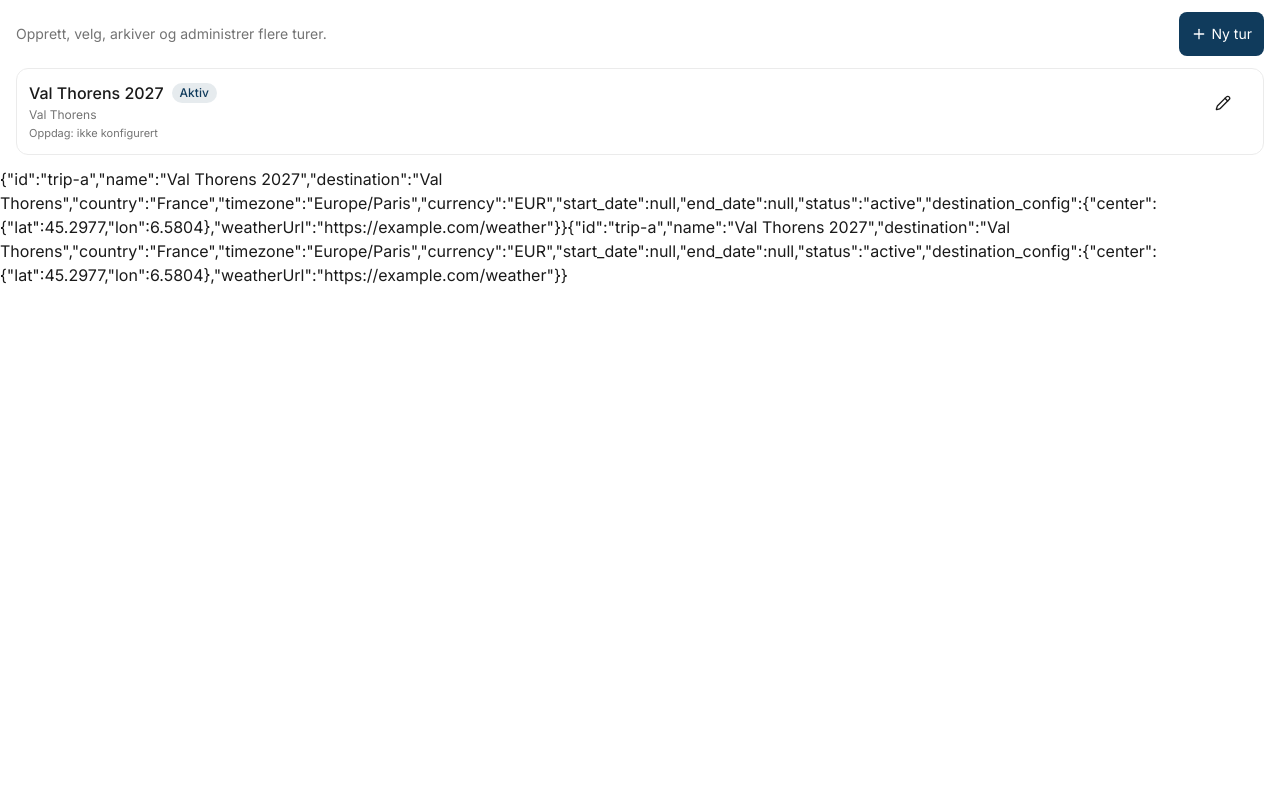
Scenario: faktisk turlagring gjennom AdminTrips og TripProvider › lagrer dato og info, oppdaterer begge appflater og leser verdiene etter ny åpning
The image size is (1280, 800).
Later steps or results of the test are not shown.
Click the button named "Rediger tur" at (1229, 103), box [1207,81,1251,125]
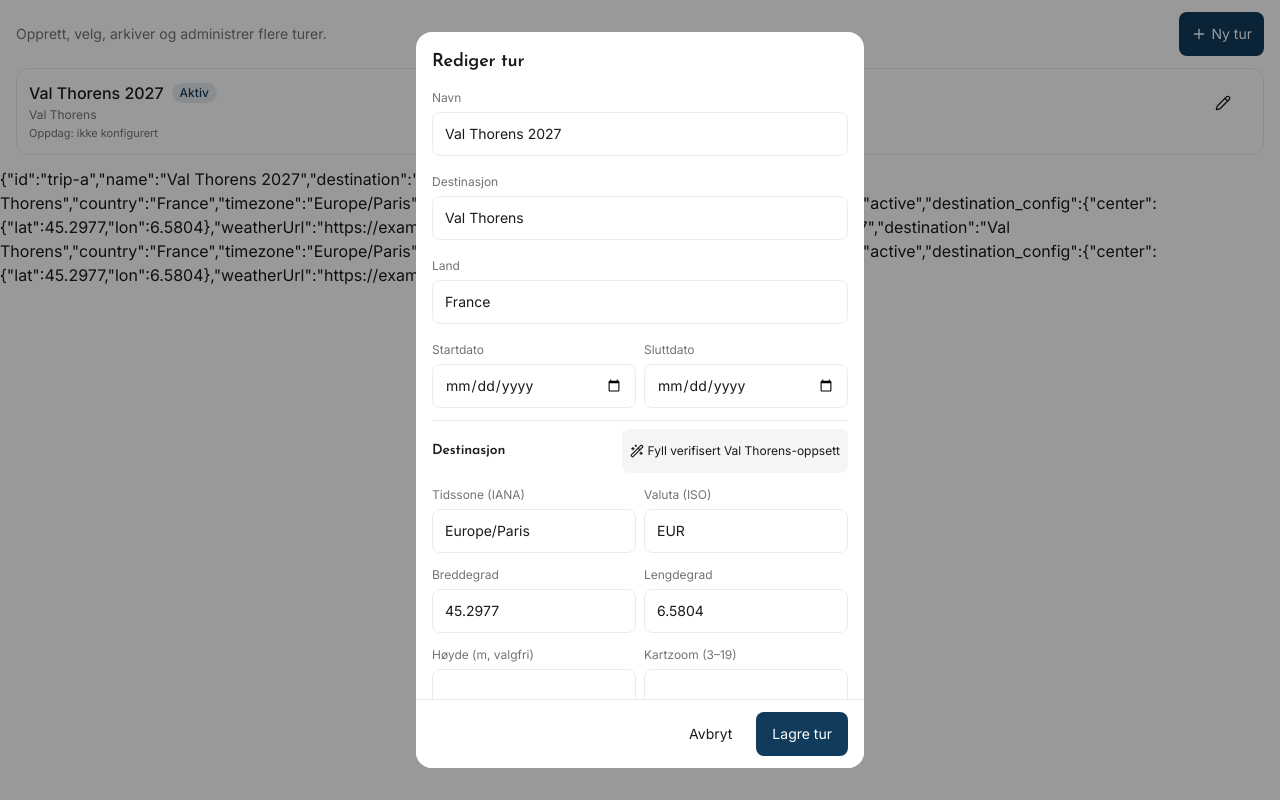
Type "2027-02-10" into the date field labelled "Startdato" at (534, 386), box [432,364,636,408]
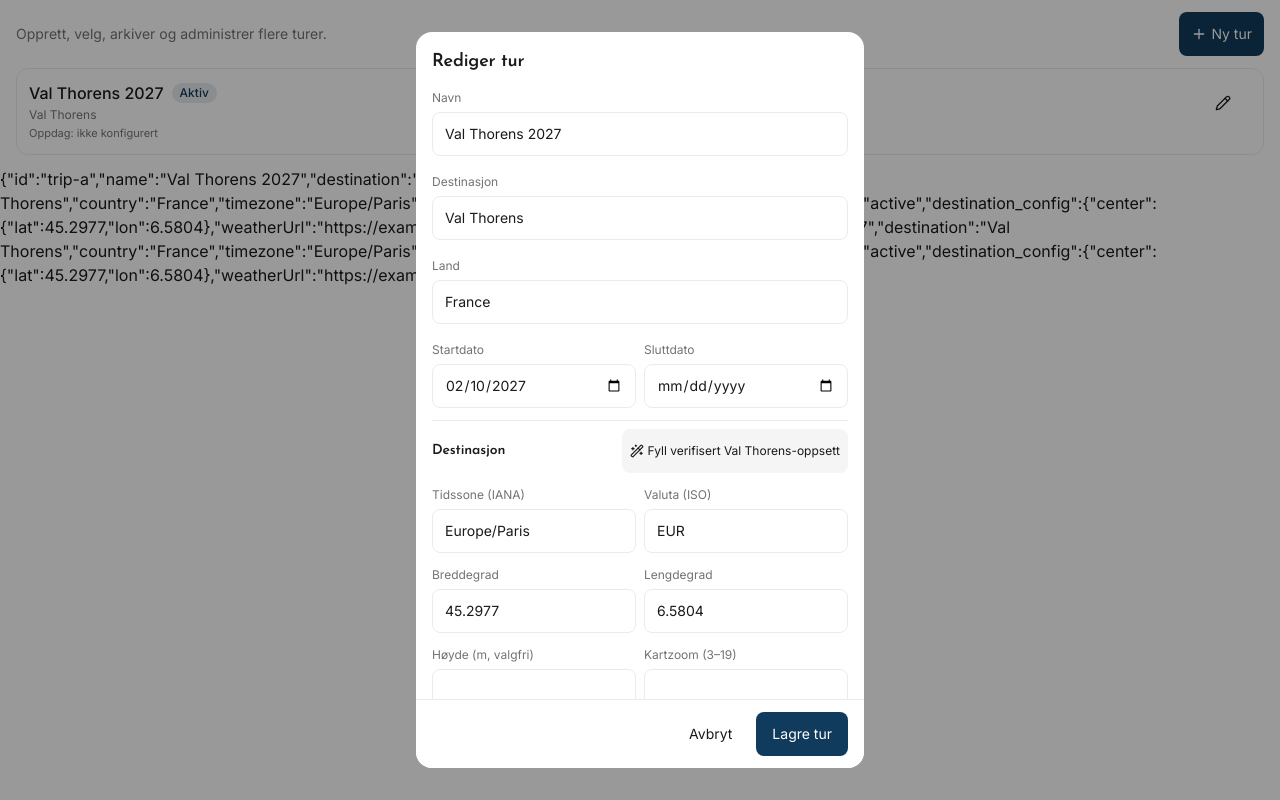
Type "2027-02-17" into the date field labelled "Sluttdato" at (746, 386), box [644,364,848,408]
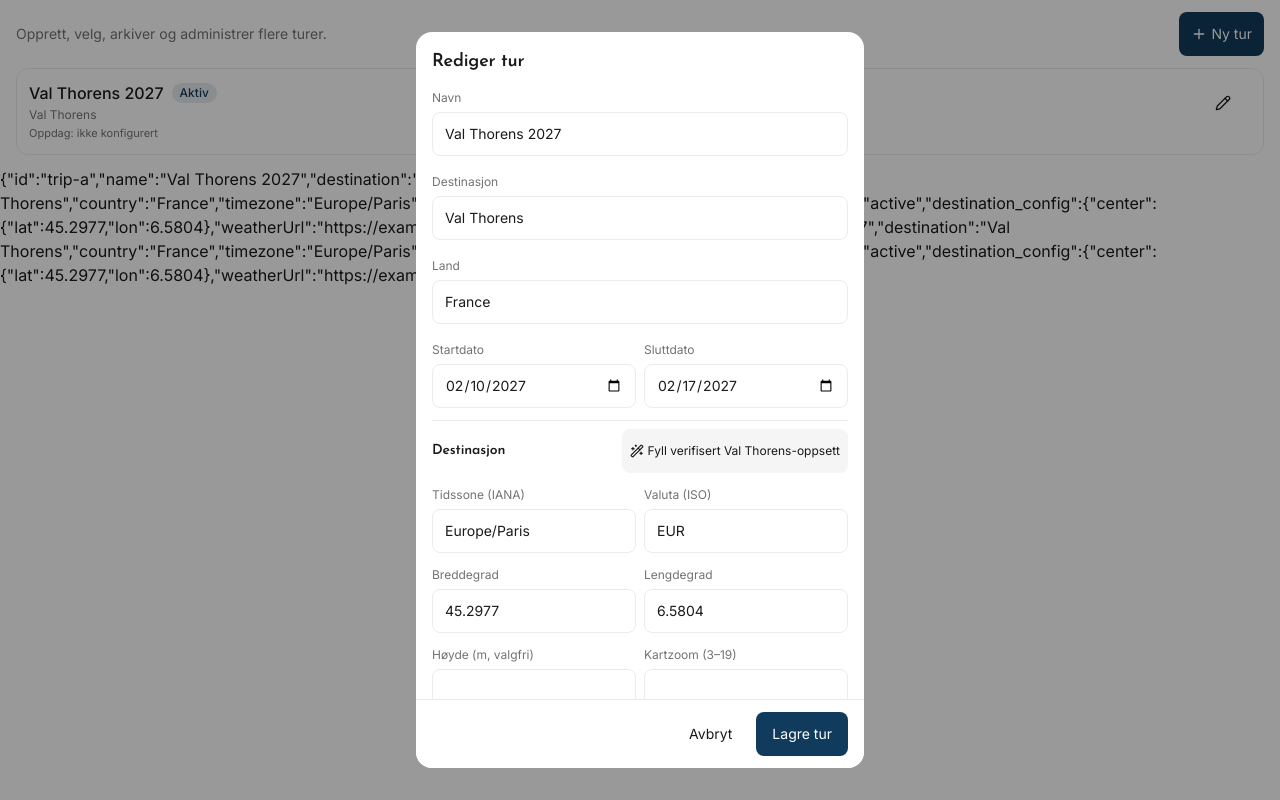
Replace the text in the field labelled "Navn" with "Vinterturen" at (640, 134), box [432,112,848,156]
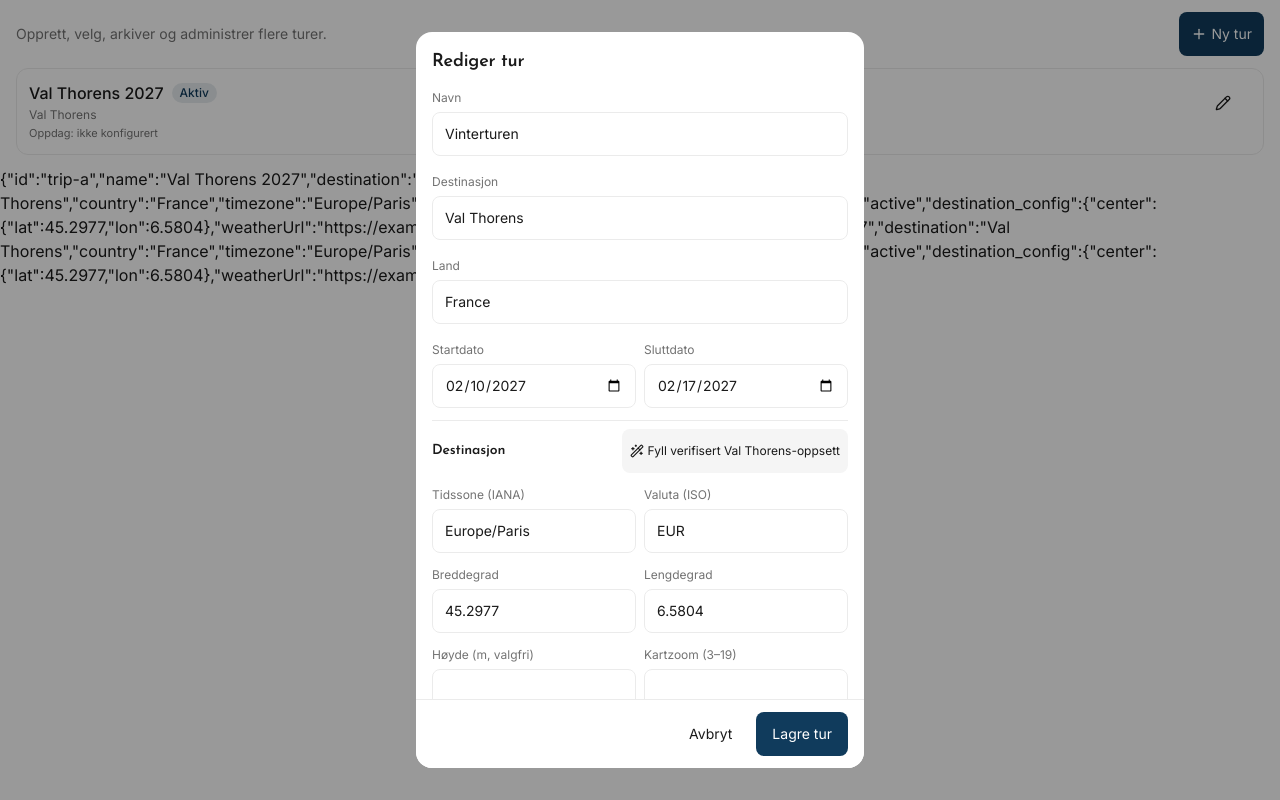
Click the button "Lagre tur" at (802, 734), box [756,712,848,756]
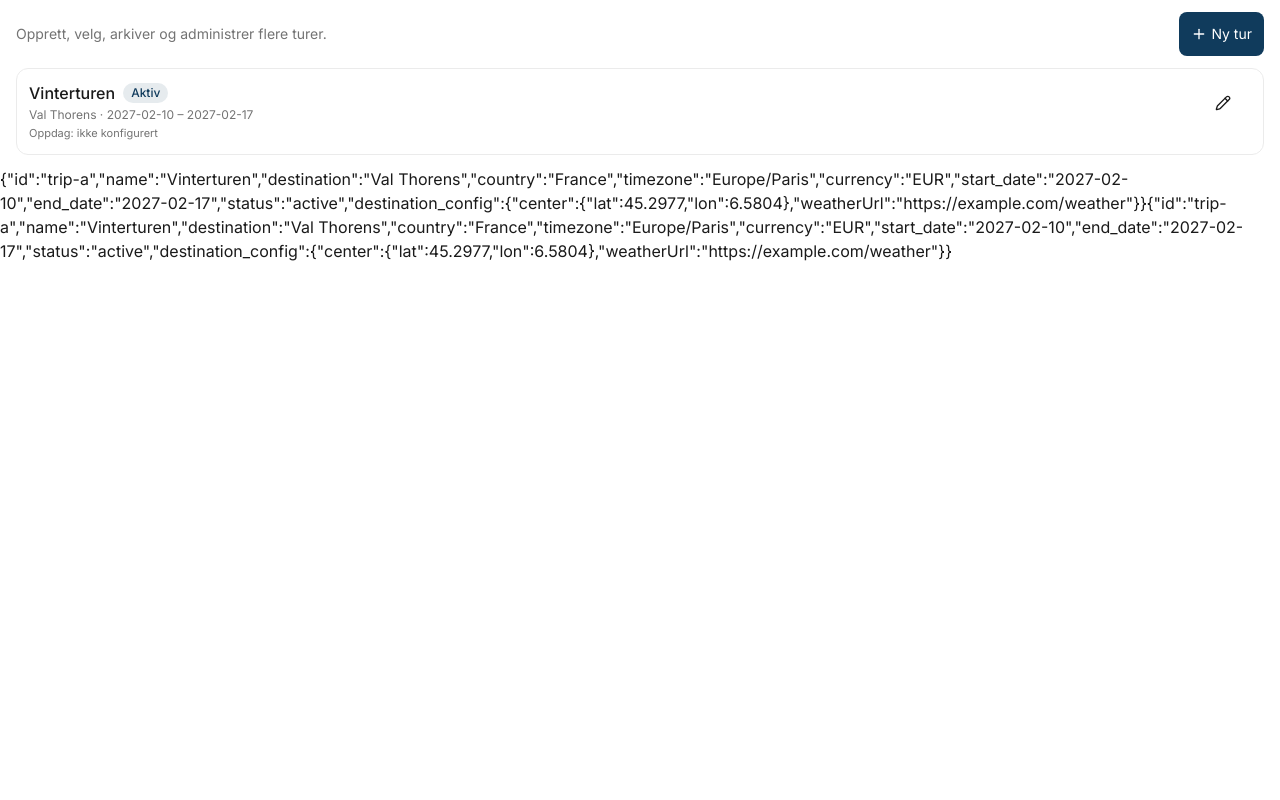
Now the text named "Hjem" shows "Vinterturen", box [0,168,1147,212]
Now the text named "Hjem" shows "2027-02-10", box [0,168,1147,212]
Now the text named "Plan" shows "Vinterturen", box [0,192,1243,260]
